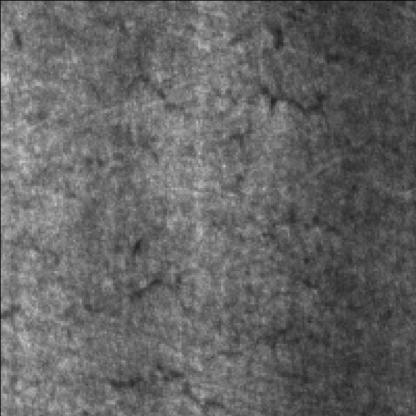crazing: (104, 256, 364, 410), (91, 13, 350, 115)
